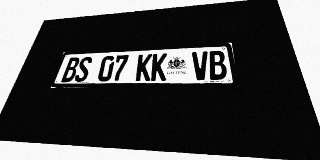0: (97, 56, 115, 82)
7: (111, 55, 129, 81)
B: (208, 50, 228, 80), (61, 57, 81, 82)
K: (135, 54, 152, 81), (151, 53, 167, 81)
S: (73, 57, 93, 82)
V: (192, 51, 209, 80)
